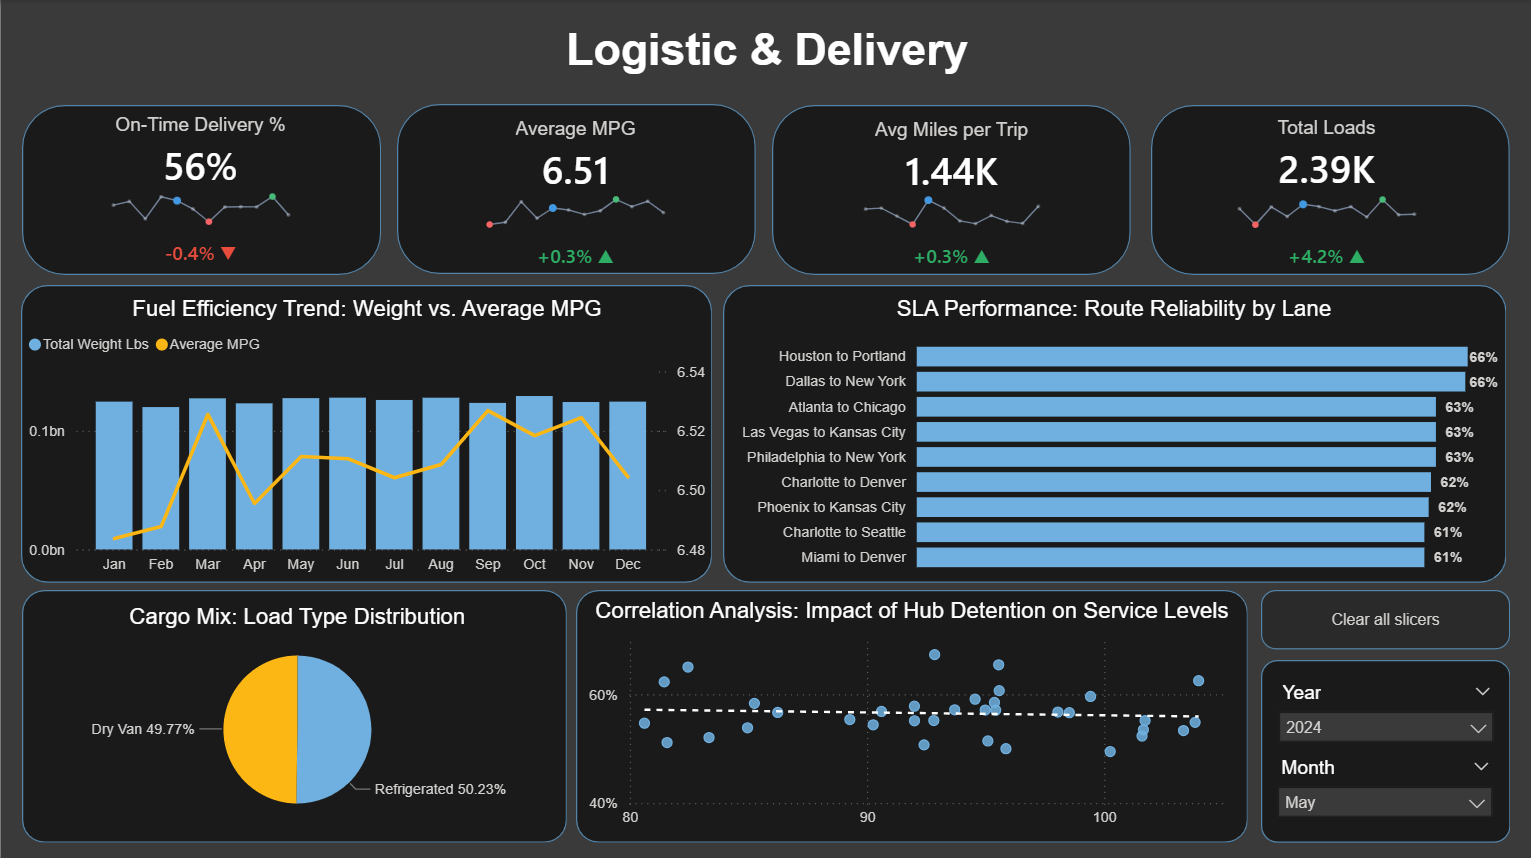

Layout of this report page (visuals, bound fields, positions):
{"tool":"powerbi","page":{"name":"📦 Logistic & Delivery","canvas":[1280,720],"ordinal":3},"visuals":[{"type":"shape","box":[603.3,238,654.5,248.7],"z":0},{"type":"shape","box":[17,238,577.3,248.7],"z":1000},{"type":"shape","box":[480.5,493.1,561.2,211.1],"z":2000},{"type":"shape","box":[17.5,493.1,455.2,211.1],"z":3000},{"type":"shape","box":[1052.2,551.2,208.3,152.6],"z":4000},{"type":"textbox","box":[0,0,1280,77.8],"z":5000},{"type":"actionButton","box":[1052.4,493.1,208.1,49.6],"z":6000},{"type":"clusteredBarChart","title":"SLA Performance: Route Reliability by Lane","fields":{"Y":["_Measures.OTD %"],"Category":["v_DimRoutes.Route Lane"]},"box":[604,247.1,651.7,240.2],"z":7000},{"type":"pieChart","title":"Cargo Mix: Load Type Distribution","fields":{"Category":["v_FactTripLoads.Load Type"],"Y":["_Measures.Total Loads"]},"box":[29.2,504.8,436.7,188.7],"z":8000},{"type":"scatterChart","title":"Correlation Analysis: Impact of Hub Detention on Service Levels","fields":{"Y":["_Measures.On-Time Delivery %"],"X":["_Measures.Avg Detention"],"Category":["v_DimFacilities.Facility Name"]},"box":[485.7,499.2,551.2,199.3],"z":9000},{"type":"shape","box":[17.5,87.5,300,142],"z":10000},{"type":"cardVisual","fields":{"Data":["_Measures.OTD %"]},"box":[16.4,80,300.9,155.5],"z":11000},{"type":"shape","box":[330.7,86.6,299.6,142],"z":12000},{"type":"cardVisual","fields":{"Data":["_Measures.Average MPG"]},"box":[330,83.6,300.9,154.5],"z":13000},{"type":"shape","box":[643.9,87.5,299.6,142],"z":14000},{"type":"cardVisual","fields":{"Data":["_Measures.Avg. Miles per Trip"]},"box":[643.6,84.5,300,153.6],"z":15000},{"type":"shape","box":[961,87.5,299.6,142],"z":16000},{"type":"cardVisual","fields":{"Data":["_Measures.Total Loads"]},"box":[957.3,82.7,300.9,155.5],"z":17000},{"type":"slicer","fields":{"Values":["v_DimDate.Month Name"]},"box":[1056.7,627.5,199,63],"z":18000},{"type":"slicer","fields":{"Values":["v_DimDate.Year"]},"box":[1057.6,564.7,199.3,62.8],"z":19000},{"type":"lineStackedColumnComboChart","title":"Fuel Efficiency Trend: Weight vs. Average MPG","fields":{"Y2":["_Measures.Average MPG"],"Y":["Sum(v_FactTripLoads.Weight Lbs)"],"Category":["v_DimDate.Month Short"]},"box":[18,246.9,576.4,239.7],"z":20000}]}

Visuals, with their boxes in screenshot pixels (x1, y1, x2, y2), scaled from the page's 1280x720 canvas onto the 1531x858 screenshot:
shape: bbox=[722, 284, 1504, 580]
shape: bbox=[20, 284, 711, 580]
shape: bbox=[575, 588, 1246, 839]
shape: bbox=[21, 588, 565, 839]
shape: bbox=[1259, 657, 1508, 839]
textbox: bbox=[0, 0, 1530, 93]
actionButton: bbox=[1259, 588, 1508, 647]
"SLA Performance: Route Reliability by Lane" clusteredBarChart: bbox=[722, 294, 1502, 581]
"Cargo Mix: Load Type Distribution" pieChart: bbox=[35, 602, 557, 826]
"Correlation Analysis: Impact of Hub Detention on Service Levels" scatterChart: bbox=[581, 595, 1240, 832]
shape: bbox=[21, 104, 380, 273]
cardVisual - _Measures.OTD %: bbox=[20, 95, 380, 281]
shape: bbox=[396, 103, 754, 272]
cardVisual - _Measures.Average MPG: bbox=[395, 100, 755, 284]
shape: bbox=[770, 104, 1129, 273]
cardVisual - _Measures.Avg. Miles per Trip: bbox=[770, 101, 1129, 284]
shape: bbox=[1149, 104, 1508, 273]
cardVisual - _Measures.Total Loads: bbox=[1145, 99, 1505, 284]
slicer - v_DimDate.Month Name: bbox=[1264, 748, 1502, 823]
slicer - v_DimDate.Year: bbox=[1265, 673, 1503, 748]
"Fuel Efficiency Trend: Weight vs. Average MPG" lineStackedColumnComboChart: bbox=[22, 294, 711, 580]
